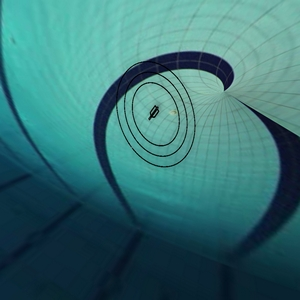circle: (98, 40, 217, 195)
submarine: (141, 98, 164, 127)
